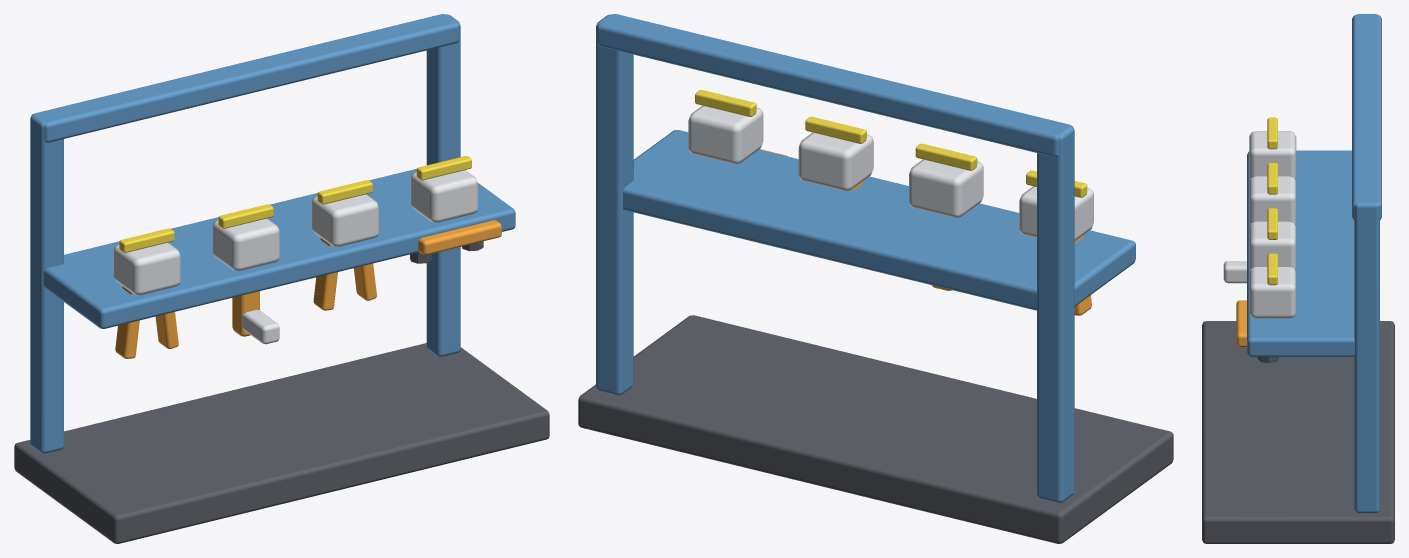
Rendered from tool-changer-rack.glb.
3 views of the same model, side by side, from view 1: azimuth 30°, elevation 25°; view 2: azimuth 150°, elevation 25°; view 3: azimuth 270°, elevation 25° (orthographic). The views are drawn at different scales.
Visible parts, largest first — view 1: tool-changer-rack; view 2: tool-changer-rack; view 3: tool-changer-rack.
Part boxes in pixels (bbox=[...]): tool-changer-rack: bbox=[14, 14, 549, 543]; tool-changer-rack: bbox=[578, 14, 1173, 543]; tool-changer-rack: bbox=[1202, 14, 1394, 543].
Bounding box in the file's own units: 2.2 × 1.74 × 0.9.
